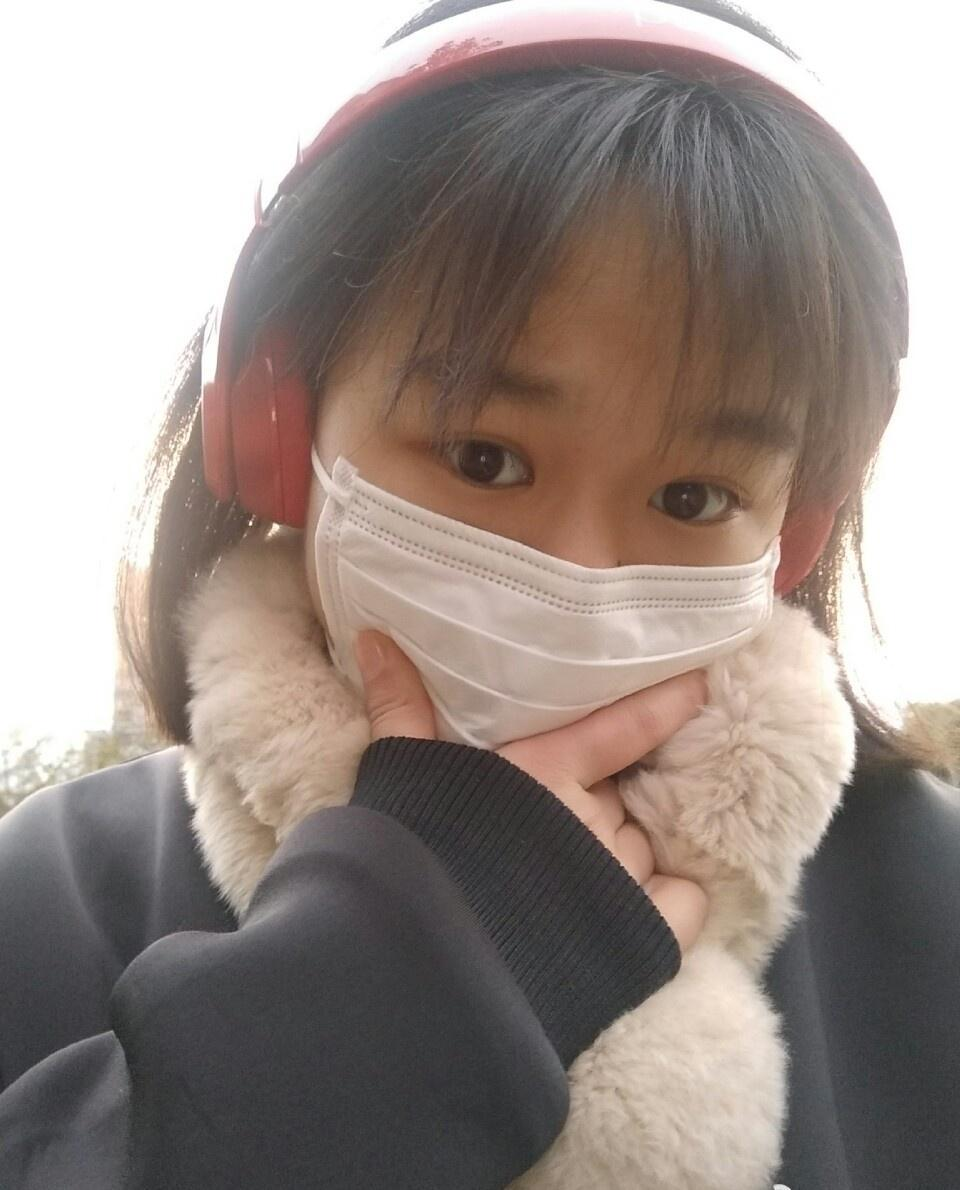OK: (290, 303, 804, 817)
